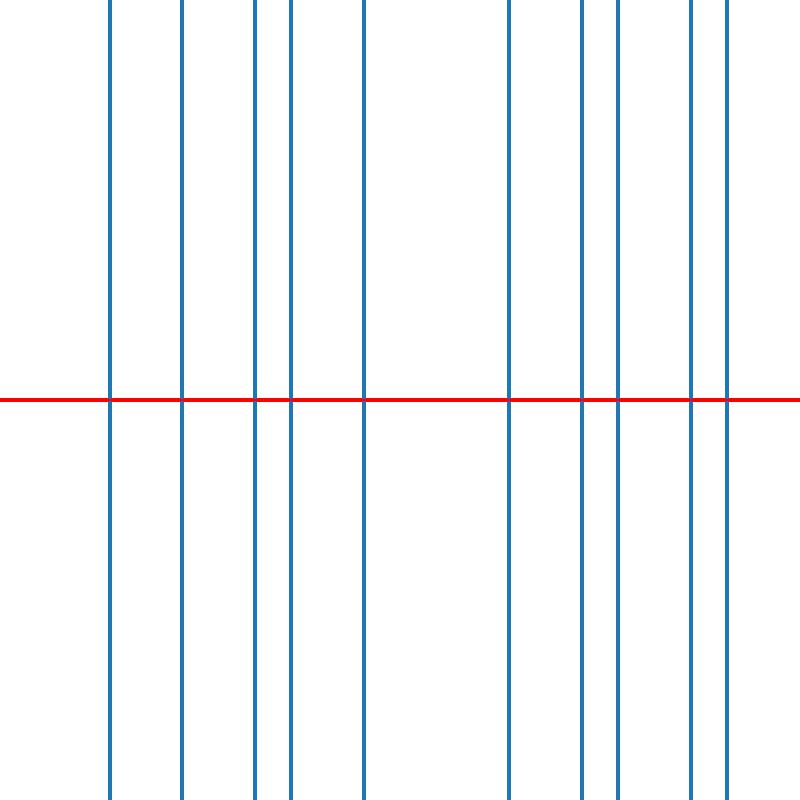root: (250, 396, 258, 404), (360, 396, 367, 404), (287, 396, 294, 404), (178, 396, 185, 404), (505, 396, 512, 404), (687, 396, 694, 404), (105, 396, 112, 404), (578, 396, 585, 404), (723, 396, 730, 404), (614, 396, 621, 404)
